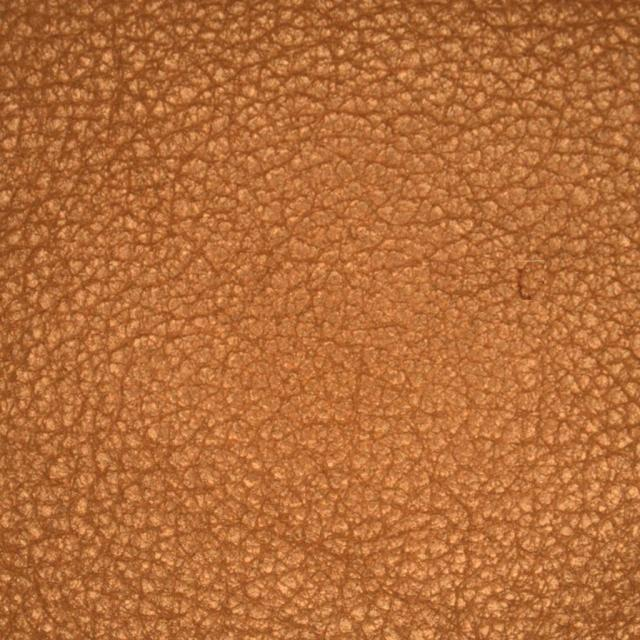Scratch: (488, 206, 568, 375)
